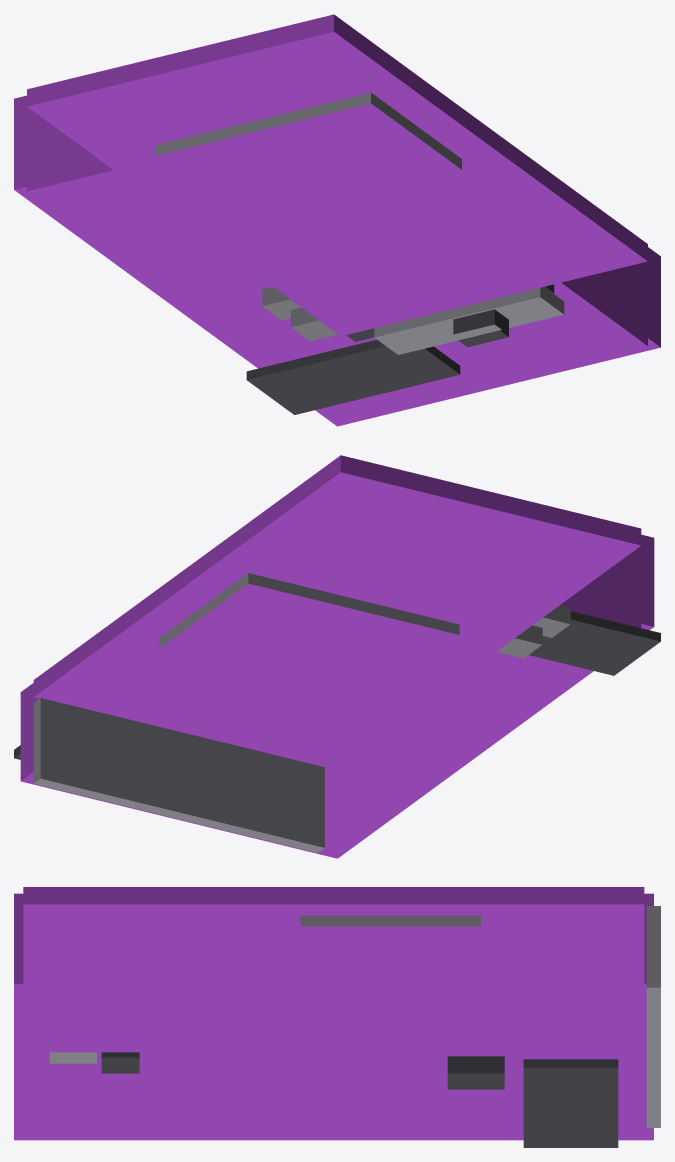
Rendered from chassis.gltf.
3 views of the same model, one above another, from view 1: azimuth 30°, elevation 25°; view 2: azimuth 150°, elevation 25°; view 3: azimuth 270°, elevation 25° (orthographic). The views are drawn at different scales.
Visible parts, largest first — view 1: chassis; view 2: chassis; view 3: chassis.
Boxes of the visible parts, left/top/right/bottom form: chassis: left=14, top=14, right=660, bottom=426; chassis: left=14, top=455, right=660, bottom=858; chassis: left=14, top=887, right=660, bottom=1147.
Bounding box in the file's own units: 0.09 × 0.0235 × 0.1365.
